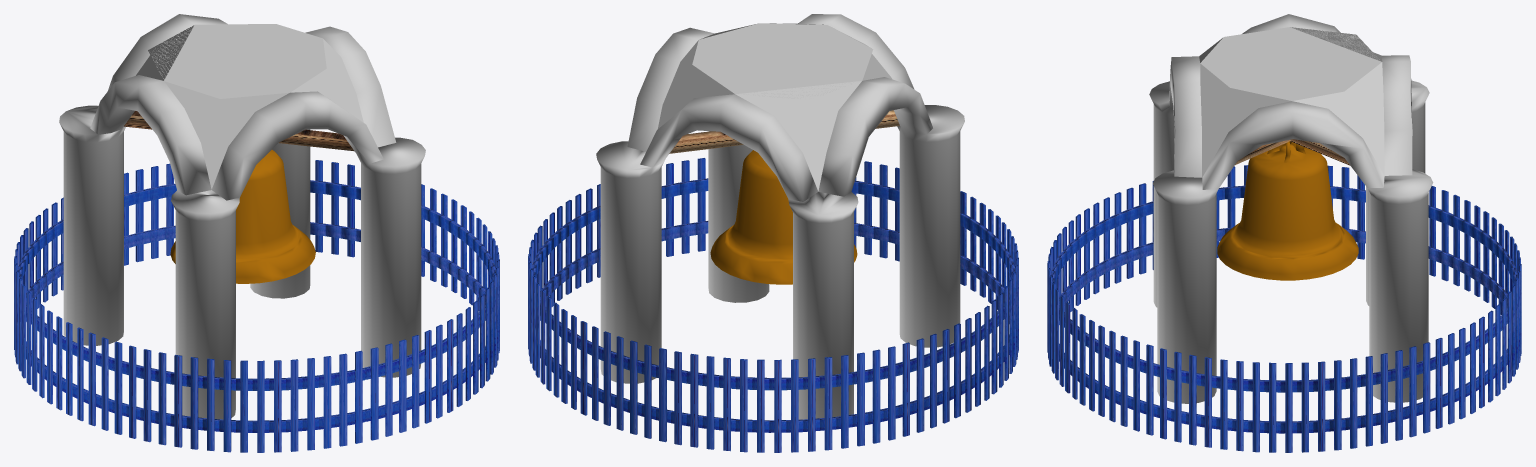
File: level3 remastered outline2.fbx
3 renders of one model, left to right at view 1: azimuth 30°, elevation 25°; view 2: azimuth 150°, elevation 25°; view 3: azimuth 270°, elevation 25°, orthographic. The views are drawn at different scales.
Parts seen in each view (by area): view 1: Arch - total, Fense.001, Level3Top, Bell, Wood; view 2: Arch - total, Fense.001, Level3Top, Bell, Wood; view 3: Arch - total, Fense.001, Bell, Level3Top, Wood.
Part boxes in pixels (box(x1,y1,x2,y2)): Arch - total: box(59, 14, 425, 419); Fense.001: box(14, 160, 499, 452); Level3Top: box(152, 24, 326, 98); Bell: box(170, 150, 315, 283); Wood: box(124, 111, 354, 151); Arch - total: box(596, 14, 964, 419); Fense.001: box(528, 158, 1018, 452); Level3Top: box(692, 23, 873, 98); Bell: box(710, 150, 857, 284); Wood: box(669, 110, 899, 153); Arch - total: box(1149, 14, 1433, 403); Fense.001: box(1047, 165, 1521, 452); Bell: box(1217, 141, 1358, 280); Level3Top: box(1200, 27, 1381, 100); Wood: box(1235, 139, 1350, 165).
Size of the model in its own units: 129 by 85.65 by 129.
